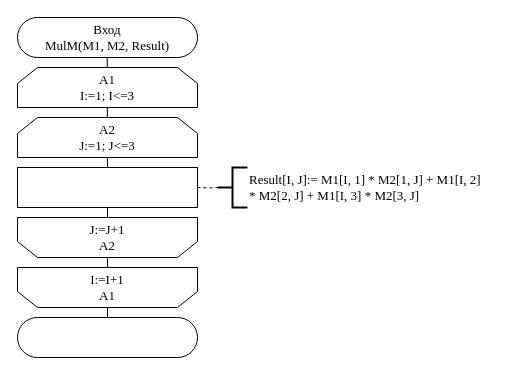
Image size: 505x375. Some labels were removed from this diagram. Each missing label, with the centre of its shape:
"Result[I, J]:= M[I, J] * N" belongs at (107,187).
"Выход MulM(M1, M2, Result)" belongs at (107,337).
